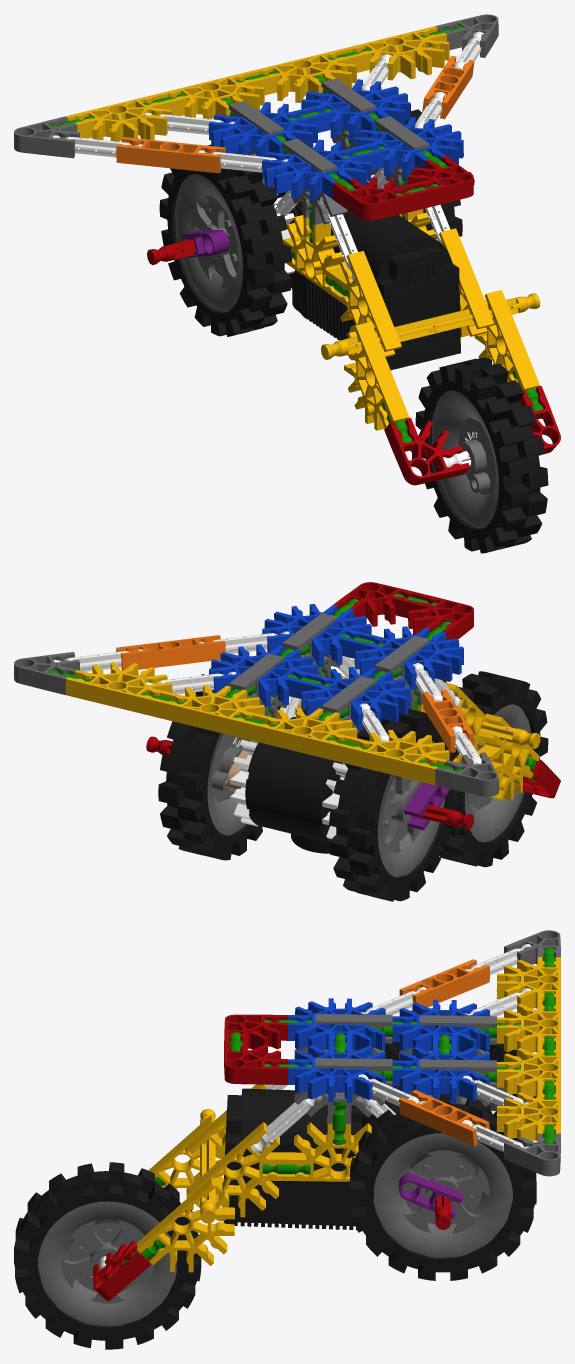
3 renders of one model, top to bottom at view 1: azimuth 30°, elevation 25°; view 2: azimuth 150°, elevation 25°; view 3: azimuth 270°, elevation 25°, orthographic. The views are drawn at different scales.
Visible parts, largest first — view 1: P1_L24.010; view 2: P1_L24.010; view 3: P1_L24.010.
Part boxes in pixels (x1,y1,x2,y2): P1_L24.010: (14, 14, 560, 553); P1_L24.010: (14, 582, 560, 901); P1_L24.010: (14, 930, 560, 1349).
Size of the model in its own units: 1.99 by 1.21 by 2.
